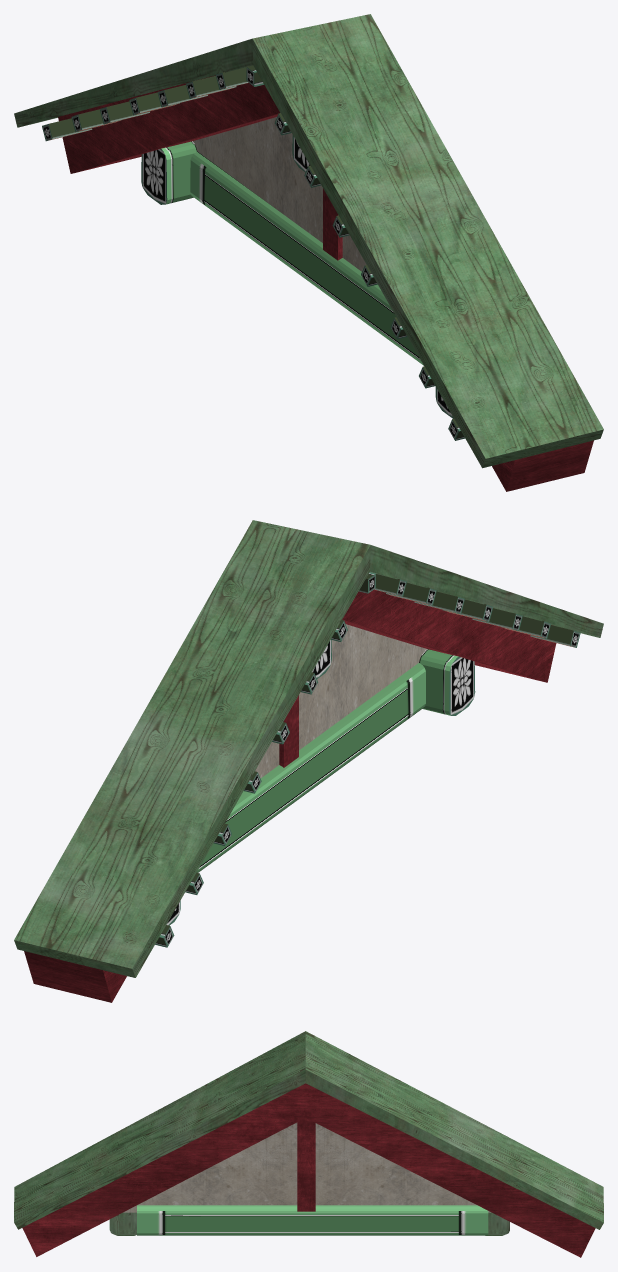
Rendered from SM_R_RoofOuter_11.fbx.
The picture shows the model from 3 angles, top to bottom: view 1: azimuth 30°, elevation 25°; view 2: azimuth 150°, elevation 25°; view 3: azimuth 270°, elevation 25°; orthographic projection. The views are drawn at different scales.
Parts seen in each view (by area): view 1: SM_R_RoofOuter_11; view 2: SM_R_RoofOuter_11; view 3: SM_R_RoofOuter_11.
Boxes of the visible parts, bbox=[...] form: SM_R_RoofOuter_11: bbox=[14, 14, 603, 491]; SM_R_RoofOuter_11: bbox=[14, 520, 603, 1002]; SM_R_RoofOuter_11: bbox=[14, 1031, 603, 1257].
Bounding box in the file's own units: 88.42 × 604 × 216.
4 materials, 4 textured.
